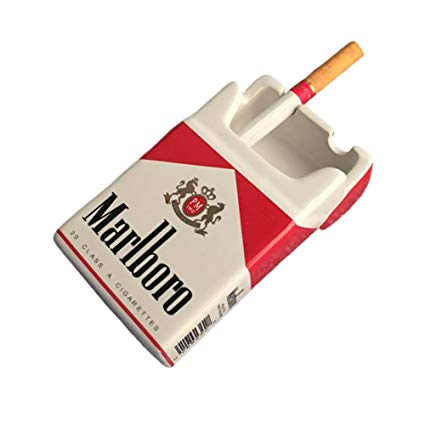cigarette: (237, 38, 368, 152)
